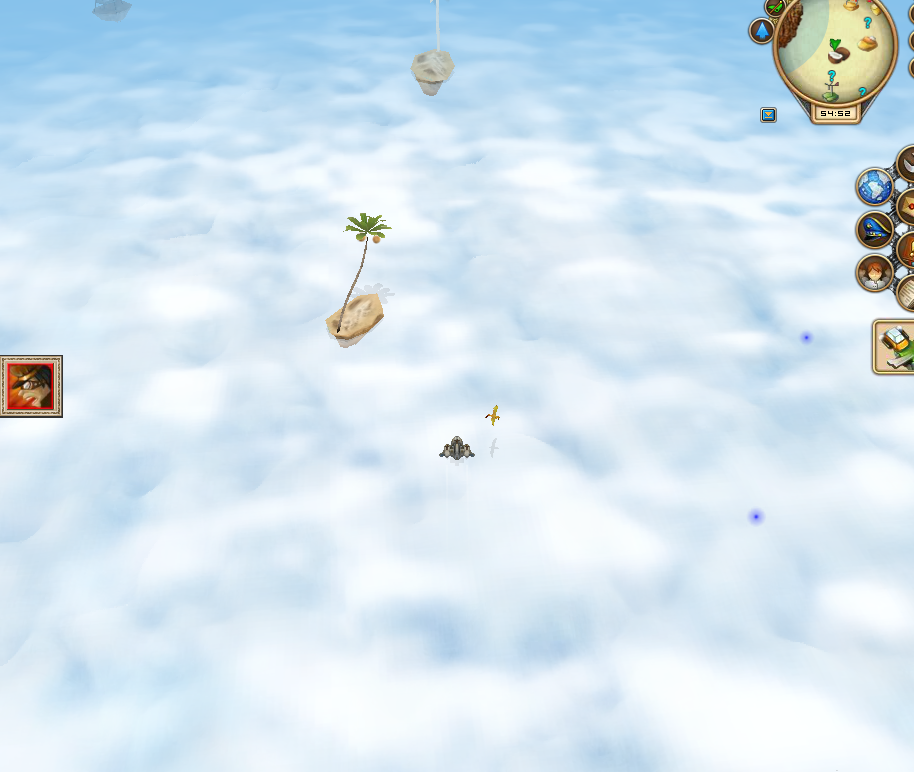palm: (316, 210, 393, 353)
